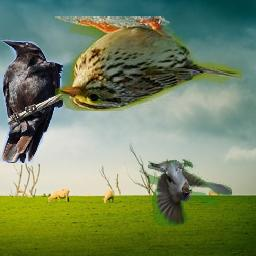Crow: (0, 39, 63, 164)
Sparrow: (56, 17, 243, 112)
Swallow: (148, 160, 232, 227)
